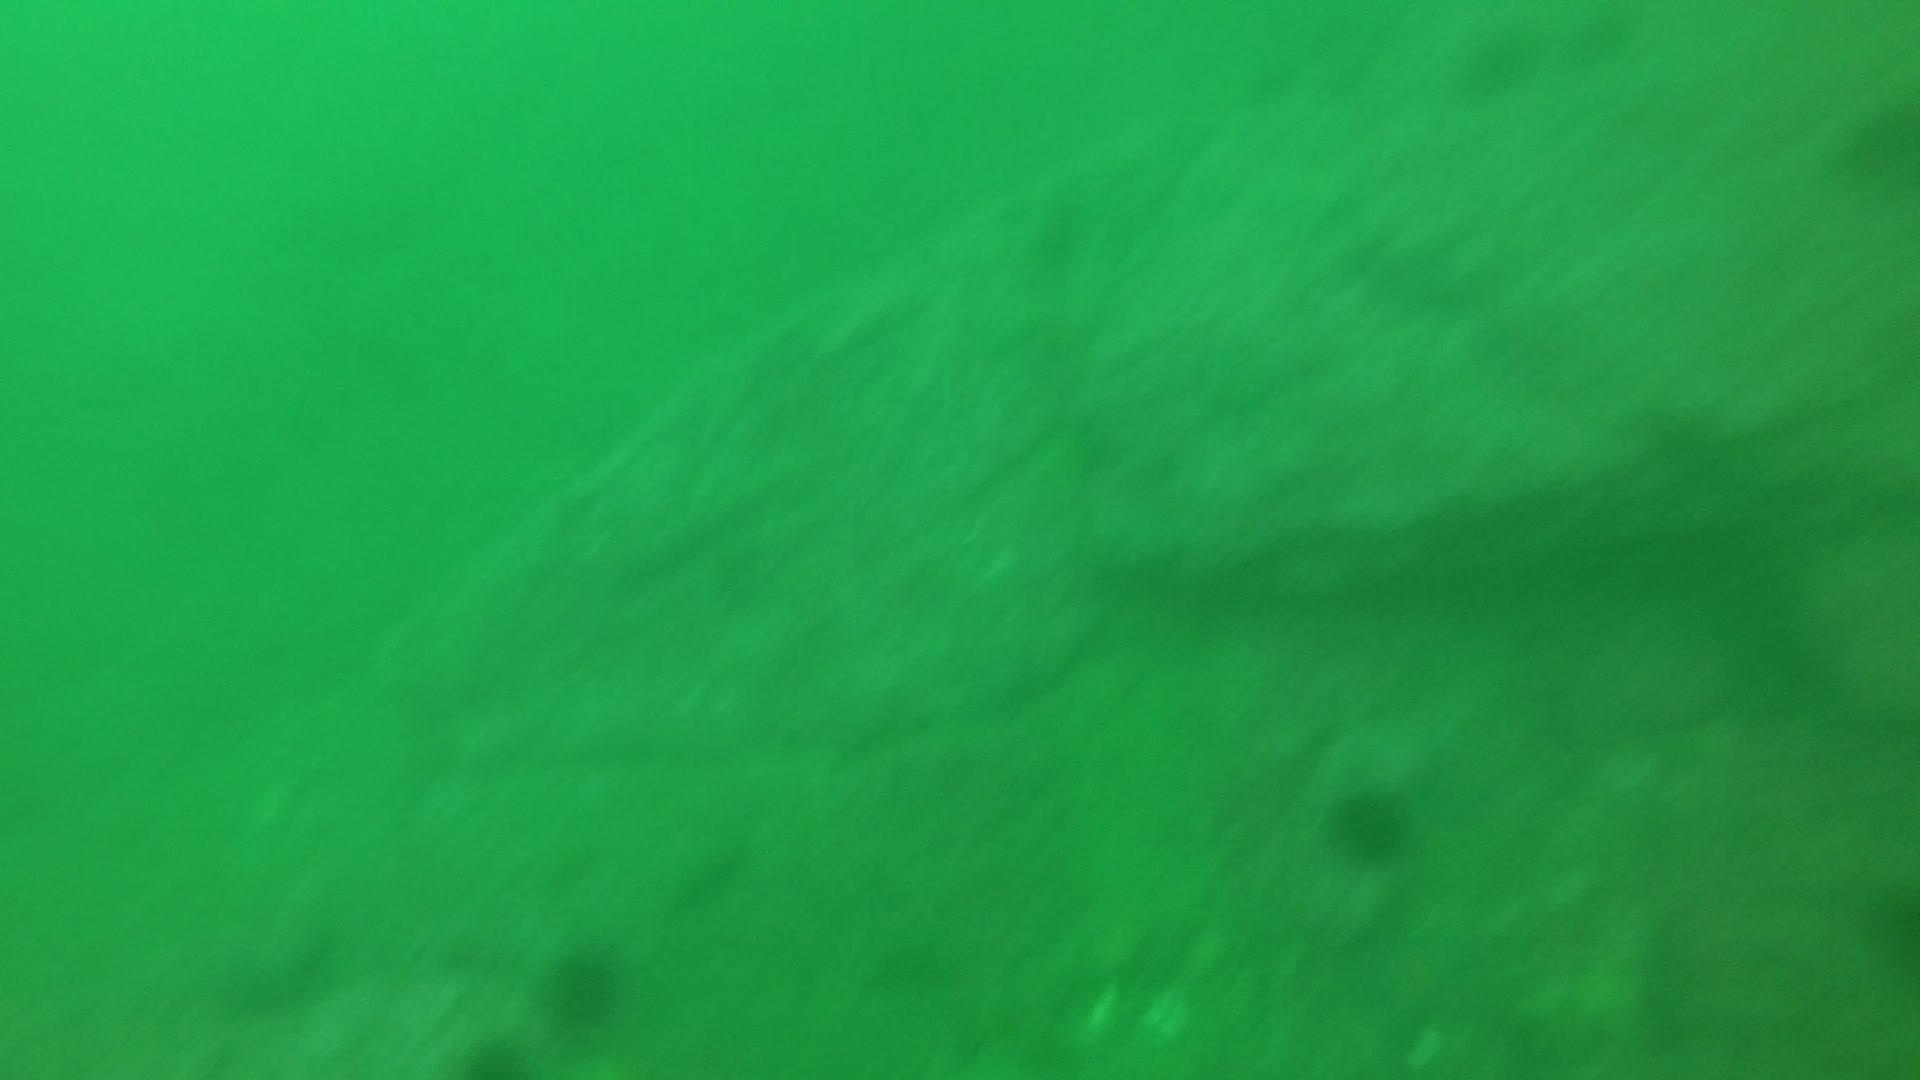echinus: (1321, 777, 1420, 866), (1834, 90, 1919, 191), (539, 938, 629, 1033), (1451, 21, 1545, 100), (1857, 872, 1920, 975), (454, 1033, 534, 1080)
